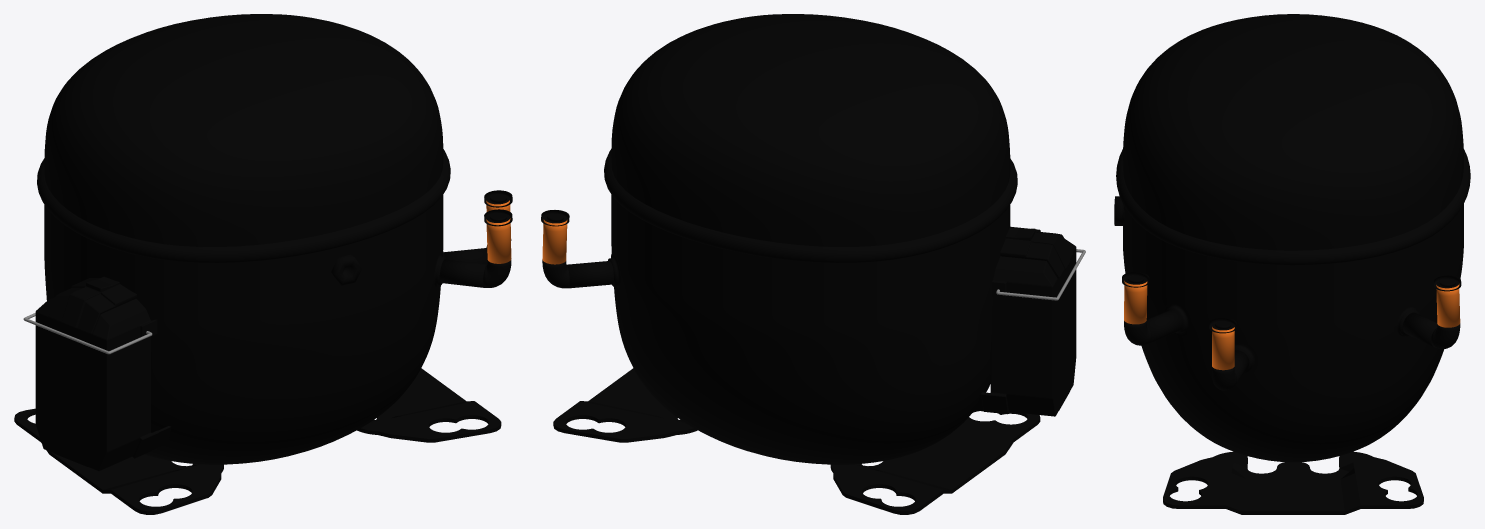
Rendered from armario_2_puerta_2.glb.
The picture shows the model from 3 angles, left to right: view 1: azimuth 30°, elevation 25°; view 2: azimuth 150°, elevation 25°; view 3: azimuth 270°, elevation 25°; orthographic projection. The views are drawn at different scales.
Parts seen in each view (by area): view 1: Cube.001, Cube, Cube.007, Cube.008; view 2: Cube.001, Cube, Cube.004; view 3: Cube.001, Cube, Cube.007, Cube.004, Cube.008, Cylinder.001, Cylinder.
Boxes of the visible parts, box(x1,y1,x2,y2) form: Cube.001: box(37, 14, 450, 464); Cube: box(14, 254, 501, 514); Cube.007: box(439, 209, 512, 287); Cube.008: box(443, 190, 512, 264); Cube.001: box(604, 14, 1017, 464); Cube: box(553, 226, 1085, 514); Cube.004: box(541, 210, 613, 288); Cube.001: box(1116, 14, 1470, 462); Cube: box(1114, 196, 1423, 514); Cube.007: box(1122, 272, 1182, 345); Cube.004: box(1402, 275, 1461, 348); Cube.008: box(1209, 318, 1249, 390); Cylinder.001: box(1164, 301, 1191, 336); Cylinder: box(1394, 304, 1420, 339).
Size of the model in its own units: 0.2599 by 0.2079 by 0.1799.
